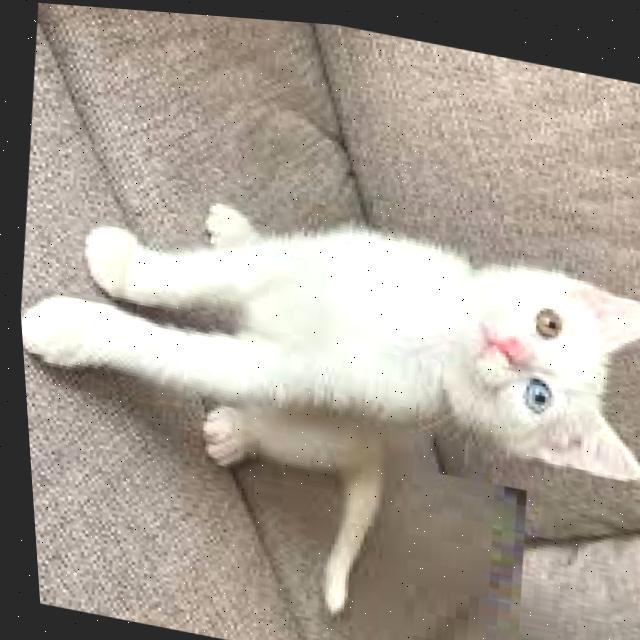Khao Manee: (8, 152, 640, 640)
